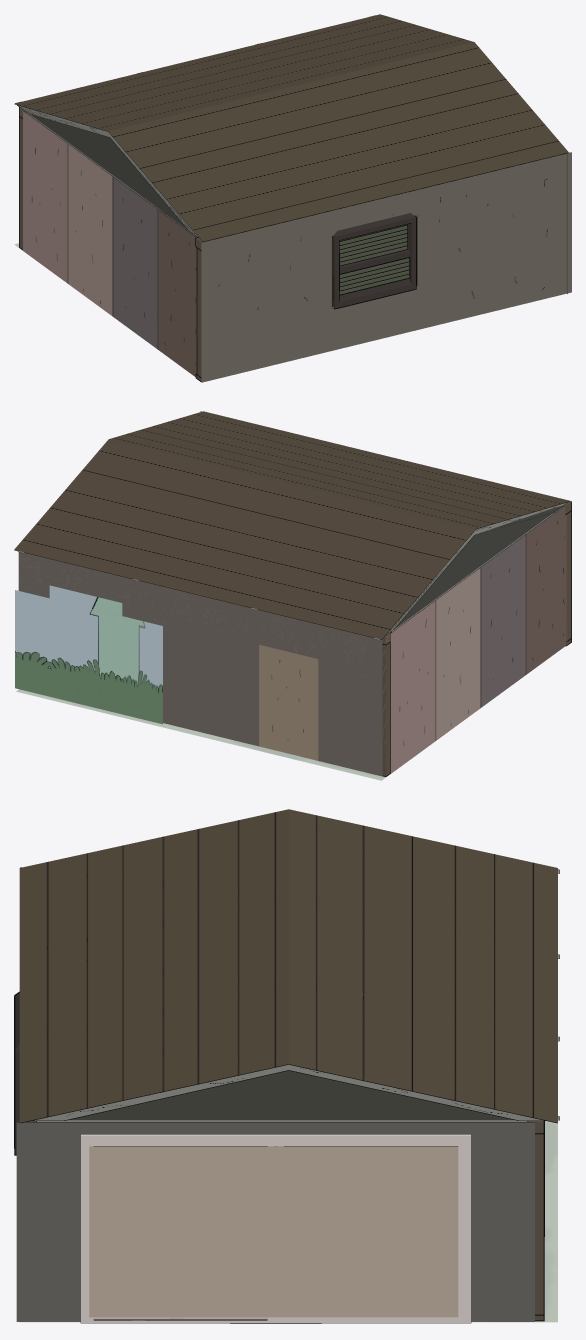
The model's file is rick.glb.
3 views of the same model, one above another, from view 1: azimuth 30°, elevation 25°; view 2: azimuth 150°, elevation 25°; view 3: azimuth 270°, elevation 25° (orthographic). The views are drawn at different scales.
Parts seen in each view (by area): view 1: Ceiling, Wall, Wood.001, Wood; view 2: Ceiling, Wall, Background, Floor, Wood, Wood.001; view 3: Ceiling, Wall, Floor, Wood, Wood.001.
Part boxes in pixels (bbox=[...]): Ceiling: bbox=[14, 14, 568, 241]; Wall: bbox=[23, 111, 571, 382]; Wood.001: bbox=[195, 213, 416, 382]; Wood: bbox=[19, 107, 25, 250]; Ceiling: bbox=[14, 411, 570, 639]; Wall: bbox=[18, 411, 566, 776]; Background: bbox=[15, 585, 162, 724]; Floor: bbox=[16, 689, 390, 780]; Wood: bbox=[382, 631, 391, 776]; Wood.001: bbox=[563, 501, 571, 646]; Ceiling: bbox=[19, 809, 559, 1123]; Wall: bbox=[16, 1122, 534, 1323]; Floor: bbox=[20, 1121, 557, 1322]; Wood: bbox=[527, 1121, 544, 1321]; Wood.001: bbox=[14, 867, 36, 1155].
Bounding box in the file's own units: 8.55 × 4.02 × 7.82.
Materials: 9 (8 with a texture image).
